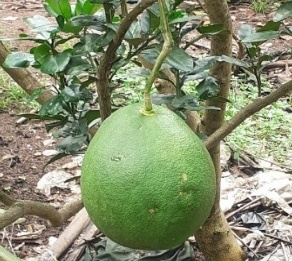Buoi: (75, 101, 219, 248)
